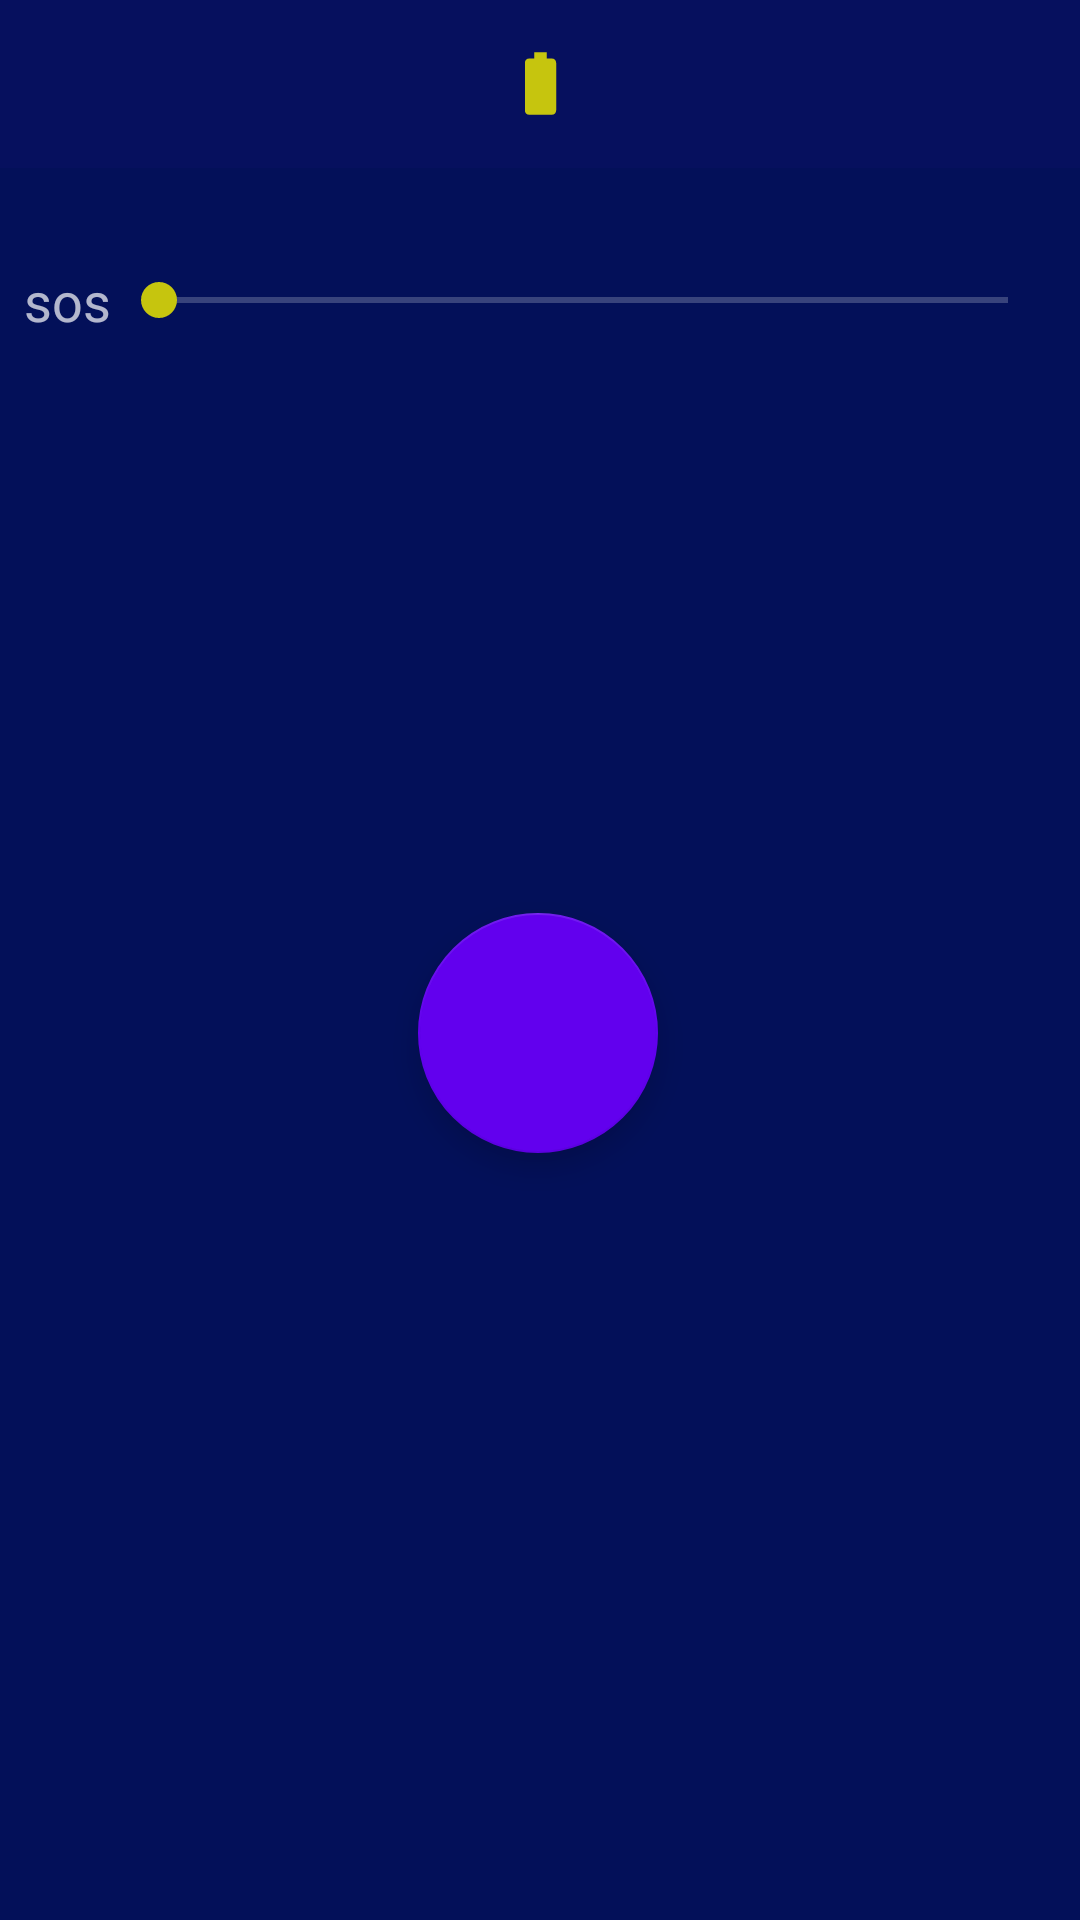

Named icons in this screenshot (1080w x 1920h) and their bounding boxes, (x1, y1, x2, y2):
Battery charge: (525, 52, 557, 115)
